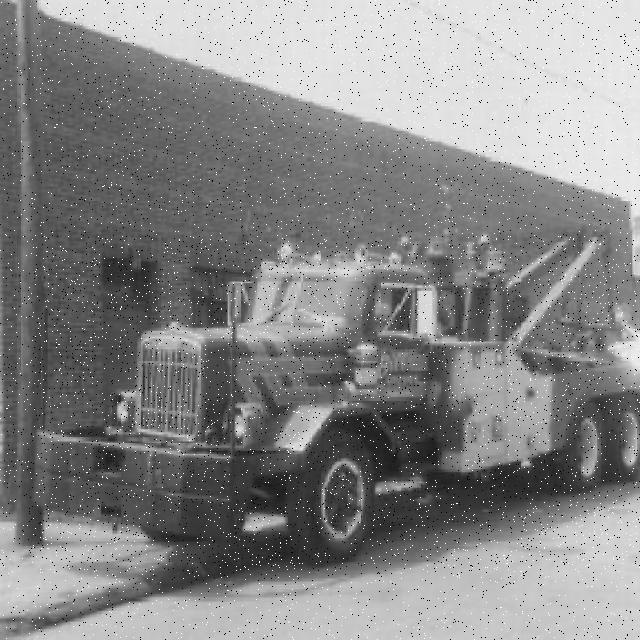Tow Truck: (29, 235, 640, 570)
